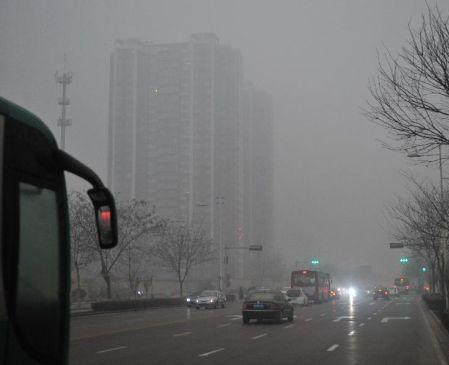bus: (1, 96, 118, 365), (291, 270, 332, 303), (393, 277, 410, 295)
car: (241, 289, 294, 324), (194, 290, 227, 309), (284, 287, 309, 307), (185, 290, 209, 309), (116, 286, 143, 298), (274, 287, 293, 301), (372, 287, 390, 300), (386, 286, 401, 297), (325, 290, 341, 300)
